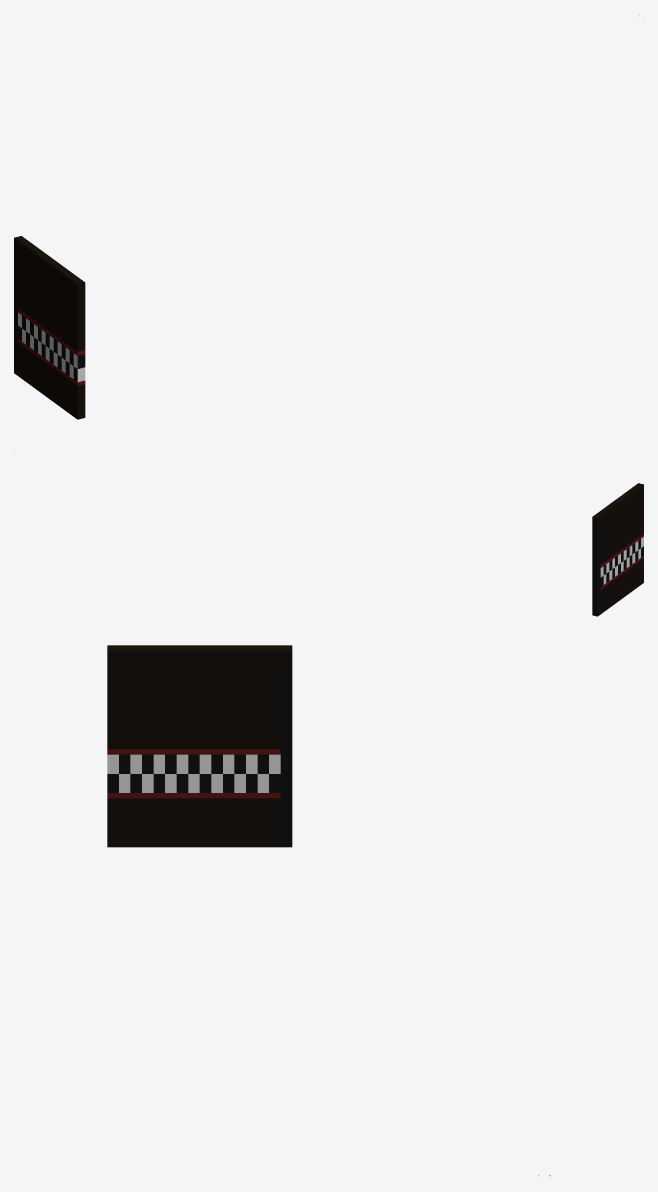
The model's file is ENVIRONMENT_WALL.fbx.
The picture shows the model from 3 angles, top to bottom: view 1: azimuth 30°, elevation 25°; view 2: azimuth 150°, elevation 25°; view 3: azimuth 270°, elevation 25°; orthographic projection. The views are drawn at different scales.
Parts seen in each view (by area): view 1: Cube.152; view 2: Cube.152; view 3: Cube.152.
Part boxes in pixels (bbox=[...]): Cube.152: bbox=[14, 236, 85, 419]; Cube.152: bbox=[592, 483, 643, 616]; Cube.152: bbox=[107, 645, 292, 847].
Bounding box in the file's own units: 3508 × 635 × 1297.
